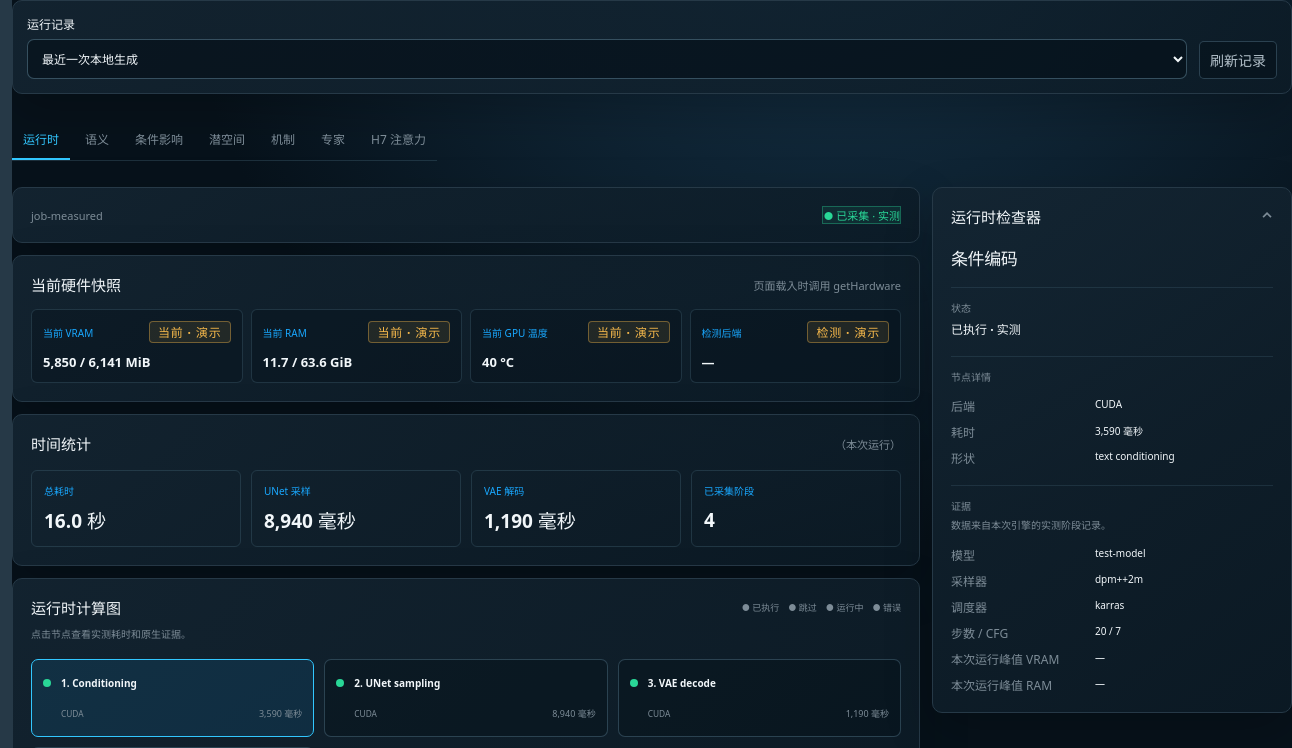
Microscope page › renders measured native phases and opens node evidence
This screenshot has width=1292, height=748.
Expected: the text "8,940 毫秒" next to "16.0 秒" is shown, [264,508,356,534]
Step 1. Click the button named "检查 UNet sampling" → point(403, 683), box [324,659,608,737]
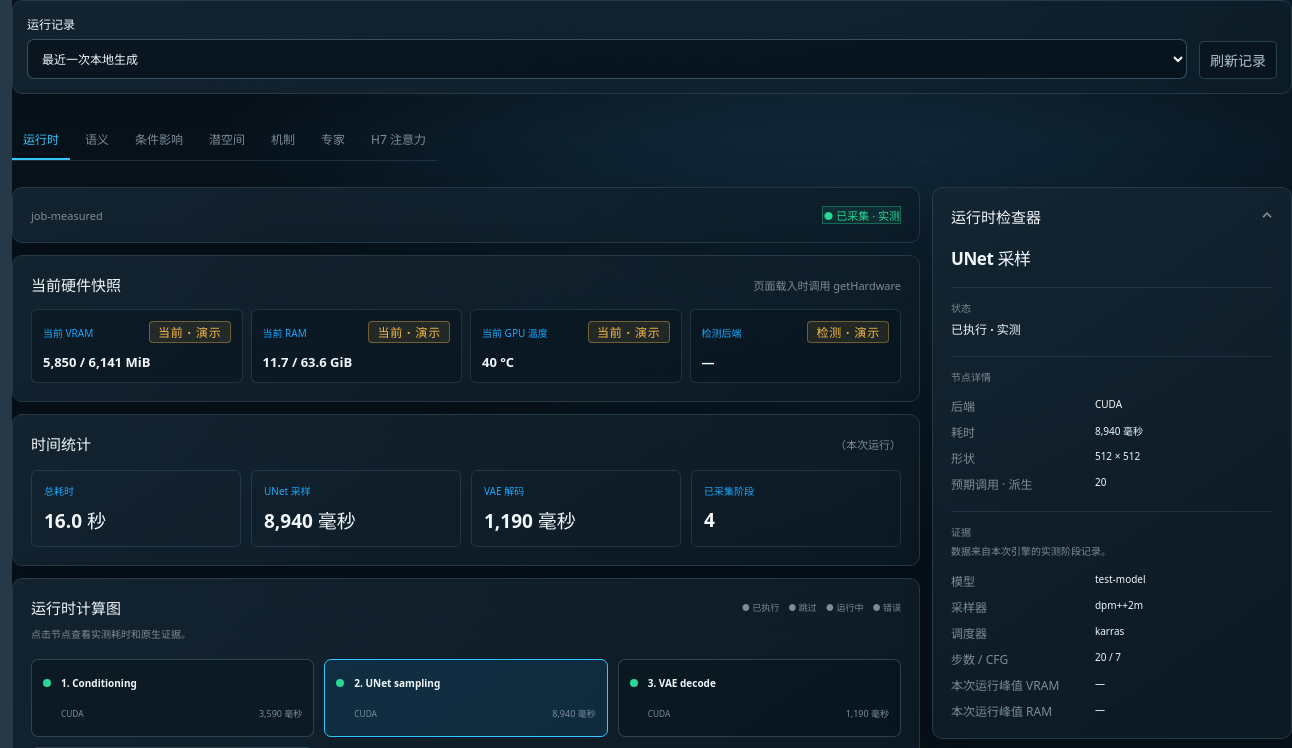
Expected: the text "数据来自本次引擎的实测阶段记录。" is shown, [951,544,1111,558]
Now the text "预期调用 · 派生" is shown, box [951,476,1032,493]
Now the text "20" is shown, box [1095,475,1106,489]
